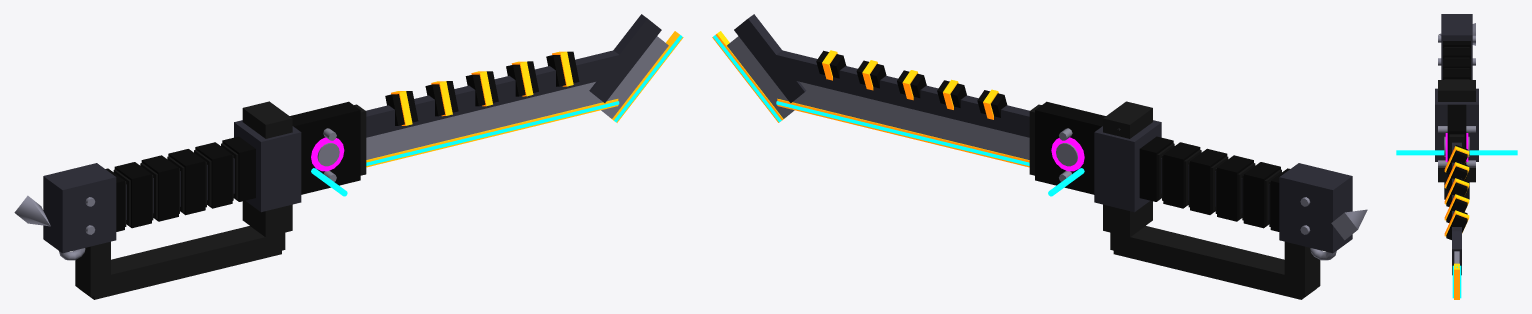
The model's file is coltello.glb.
The picture shows the model from 3 angles, left to right: view 1: azimuth 30°, elevation 25°; view 2: azimuth 150°, elevation 25°; view 3: azimuth 270°, elevation 25°; orthographic projection. The views are drawn at different scales.
Visible parts, largest first — view 1: CombatKnife; view 2: CombatKnife; view 3: CombatKnife.
Part boxes in pixels (<box>): CombatKnife: <box>14,14,683,299</box>; CombatKnife: <box>712,14,1367,299</box>; CombatKnife: <box>1396,14,1517,299</box>.
Size of the model in its own units: 4.89 by 1.01 by 0.96.
